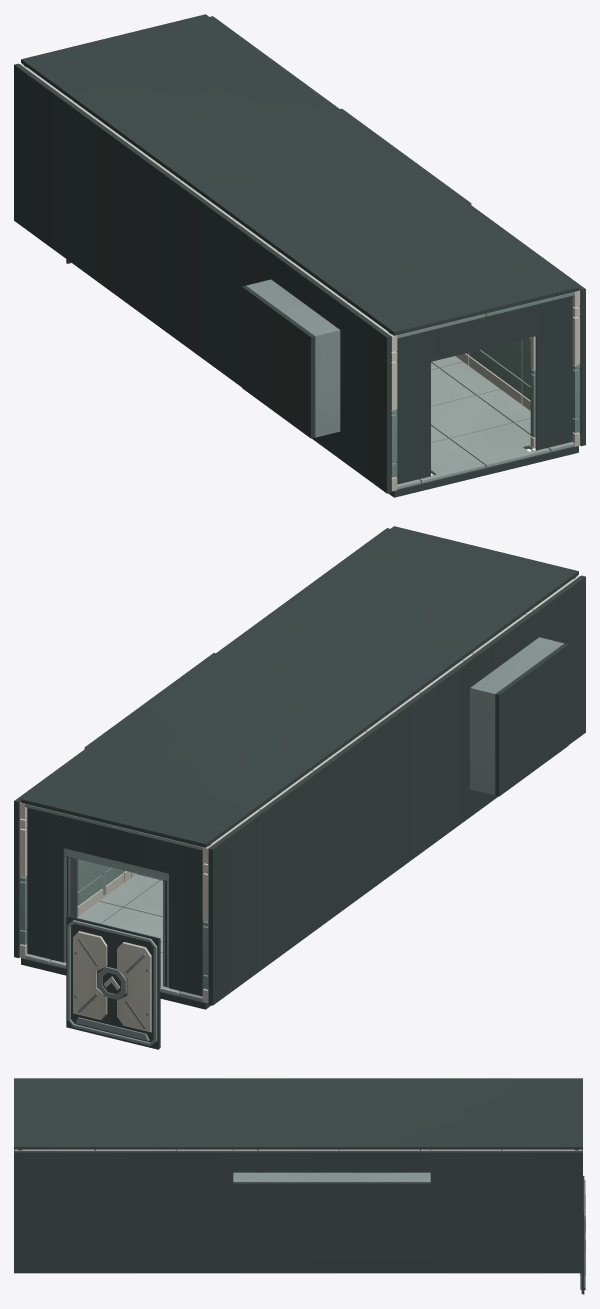
The model's file is passage-1-2.glb.
3 views of the same model, one above another, from view 1: azimuth 30°, elevation 25°; view 2: azimuth 150°, elevation 25°; view 3: azimuth 270°, elevation 25° (orthographic). The views are drawn at different scales.
Parts seen in each view (by area): view 1: C2_passage-1-2_Batch_Architecture_Graphite, C2_passage-1-2_Batch_Architecture_Resin, C2_passage-1-2_Batch_Architecture_Alloy, C2_passage-1-2_Batch_Architecture_Cool, C2_passage-1-2_Batch_Architecture_Ceramic; view 2: C2_passage-1-2_Batch_Architecture_Graphite, C2_passage-1-2_Batch_cultivation-room-1-to-2-lab-passage-ent (×3), C2_passage-1-2_Batch_Architecture_Alloy, C2_passage-1-2_Batch_Architecture_Resin, C2_passage-1-2_Batch_Architecture_Ceramic, C2_passage-1-2_Batch_Architecture_Cool; view 3: C2_passage-1-2_Batch_Architecture_Graphite, C2_passage-1-2_Batch_Architecture_Alloy, C2_passage-1-2_Batch_Architecture_Ceramic.
Part boxes in pixels (bbox=[...]): C2_passage-1-2_Batch_Architecture_Graphite: bbox=[14, 14, 585, 497]; C2_passage-1-2_Batch_Architecture_Resin: bbox=[397, 356, 574, 489]; C2_passage-1-2_Batch_Architecture_Alloy: bbox=[246, 279, 485, 437]; C2_passage-1-2_Batch_Architecture_Cool: bbox=[391, 292, 580, 477]; C2_passage-1-2_Batch_Architecture_Ceramic: bbox=[20, 63, 580, 491]; C2_passage-1-2_Batch_Architecture_Graphite: bbox=[14, 526, 585, 1009]; C2_passage-1-2_Batch_cultivation-room-1-to-2-lab-passage-ent (×3): bbox=[66, 916, 160, 1049]; C2_passage-1-2_Batch_Architecture_Alloy: bbox=[64, 609, 563, 1001]; C2_passage-1-2_Batch_Architecture_Resin: bbox=[25, 873, 180, 995]; C2_passage-1-2_Batch_Architecture_Ceramic: bbox=[19, 575, 579, 1003]; C2_passage-1-2_Batch_Architecture_Cool: bbox=[19, 804, 208, 989]; C2_passage-1-2_Batch_Architecture_Graphite: bbox=[14, 1078, 582, 1273]; C2_passage-1-2_Batch_Architecture_Alloy: bbox=[233, 1172, 430, 1181]; C2_passage-1-2_Batch_Architecture_Ceramic: bbox=[14, 1149, 582, 1150].
Bounding box in the file's own units: 11.16 × 8.95 × 28.15.
